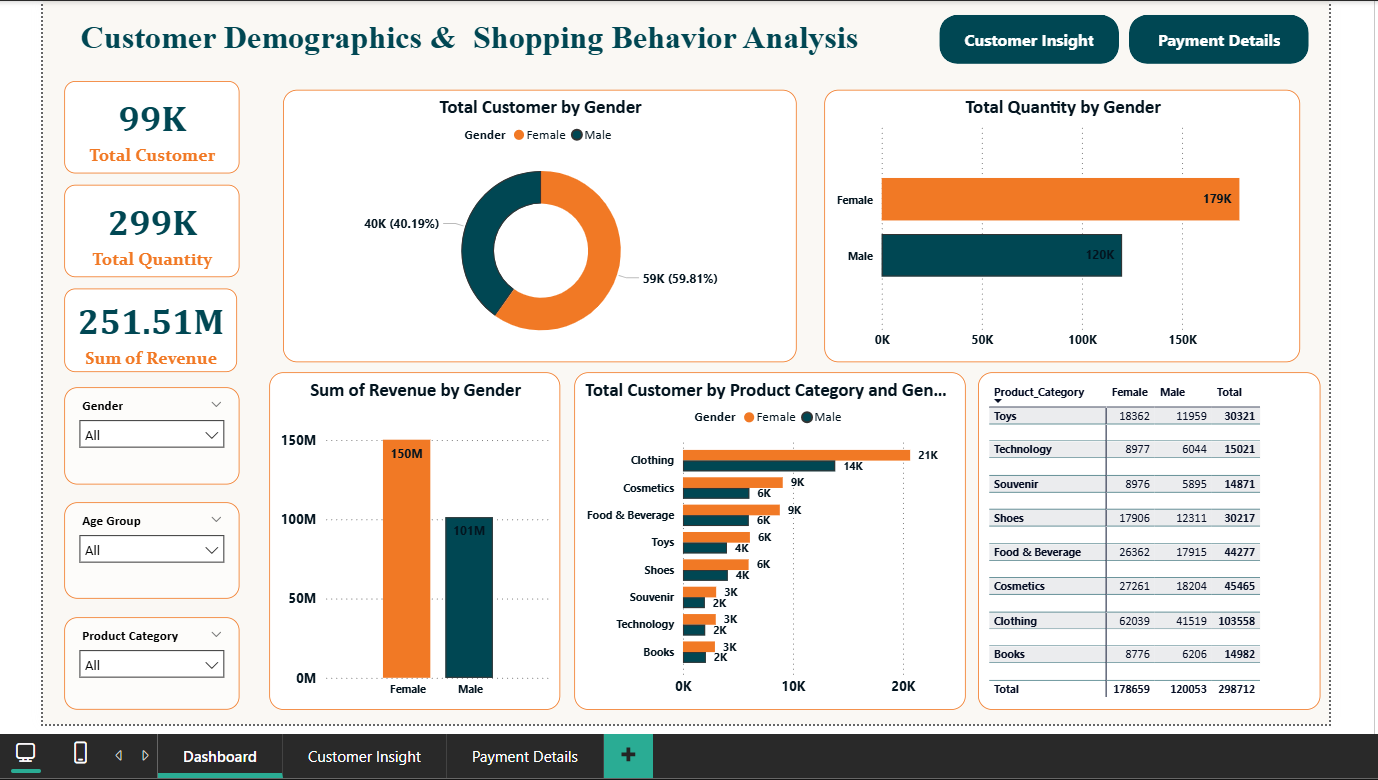

What the dashboard file says about the page in this screenshot:
{"tool":"powerbi","page":{"name":"Dashboard","canvas":[1280,720],"ordinal":0},"visuals":[{"type":"card","fields":{"Values":["Customer_data.Total Quantity"]},"box":[21.1,182.9,174.2,92.1],"z":0},{"type":"card","fields":{"Values":["Customer_data.Invoice Count"]},"box":[21.1,79.6,174.2,92.1],"z":1000},{"type":"card","fields":{"Values":["Sum(Customer_data.Revenue)"]},"box":[21.1,286.1,171.7,83.3],"z":2000},{"type":"donutChart","fields":{"Category":["Customer_data.Gender"],"Y":["Customer_data.Invoice Count"]},"box":[238.8,88.3,511.3,271.2],"z":3000},{"type":"clusteredBarChart","fields":{"Category":["Customer_data.Gender"],"Y":["Customer_data.Total Quantity"]},"box":[777.5,88.3,473.9,271.2],"z":4000},{"type":"columnChart","fields":{"Category":["Customer_data.Gender"],"Y":["Sum(Customer_data.Revenue)"]},"box":[225.2,369.5,289.8,335.9],"z":5000},{"type":"clusteredBarChart","title":"Total Customer by Product Category and Gender","fields":{"Category":["Customer_data.Product_Category"],"Series":["Customer_data.Gender"],"Y":["Customer_data.Total Customer"]},"box":[528.7,369.5,389.4,335.9],"z":6000},{"type":"pivotTable","fields":{"Rows":["Customer_data.Product_Category"],"Columns":["Customer_data.Gender"],"Values":["Customer_data.Total Quantity"]},"box":[930.5,369.5,340.8,335.9],"z":7000},{"type":"slicer","fields":{"Values":["Customer_data.Product_Category"]},"box":[21.1,613.3,174.2,92.1],"z":8000},{"type":"slicer","fields":{"Values":["Customer_data.Gender"]},"box":[21.1,384.4,174.2,97],"z":9000},{"type":"textbox","box":[32.3,12.4,803.6,52.2],"z":10000},{"type":"slicer","fields":{"Values":["Customer_data.Age_Group"]},"box":[21.1,498.8,174.2,95.8],"z":11000},{"type":"pageNavigator","box":[891.9,13.7,369.5,49.8],"z":12000}]}

Visuals, with their boxes on the page's 1280x720 design canvas (x1, y1, x2, y2). These are canvas units, not pixel positions in the 1378x780 screenshot, which may show the page scaled, cropped or inside an application window:
card - Customer_data.Total Quantity: BBox(21, 183, 195, 275)
card - Customer_data.Invoice Count: BBox(21, 80, 195, 172)
card - Sum(Customer_data.Revenue): BBox(21, 286, 193, 369)
donutChart - Customer_data.Gender x Customer_data.Invoice Count: BBox(239, 88, 750, 360)
clusteredBarChart - Customer_data.Gender x Customer_data.Total Quantity: BBox(778, 88, 1251, 360)
columnChart - Customer_data.Gender x Sum(Customer_data.Revenue): BBox(225, 370, 515, 705)
"Total Customer by Product Category and Gender" clusteredBarChart: BBox(529, 370, 918, 705)
pivotTable - Customer_data.Product_Category x Customer_data.Gender: BBox(930, 370, 1271, 705)
slicer - Customer_data.Product_Category: BBox(21, 613, 195, 705)
slicer - Customer_data.Gender: BBox(21, 384, 195, 481)
textbox: BBox(32, 12, 836, 65)
slicer - Customer_data.Age_Group: BBox(21, 499, 195, 595)
pageNavigator: BBox(892, 14, 1261, 64)
